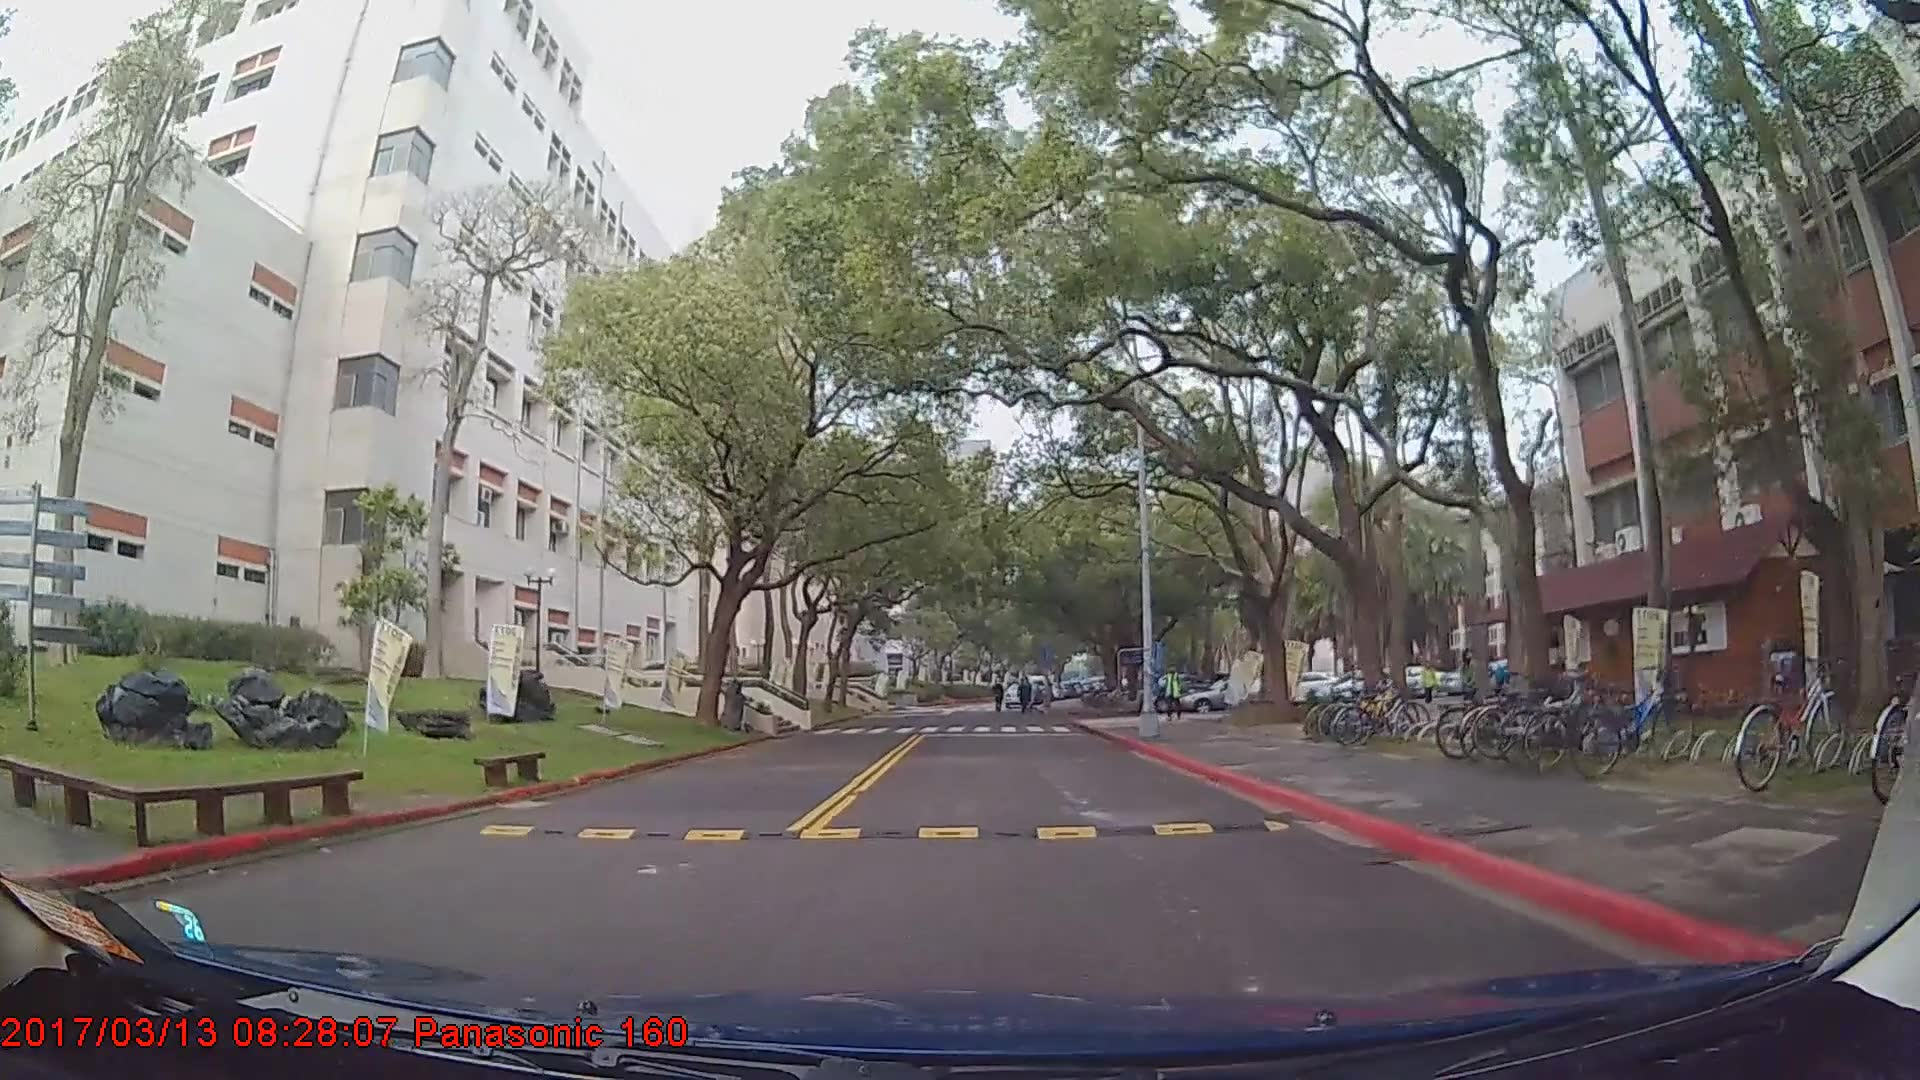vehicle: (1178, 676, 1273, 713)
